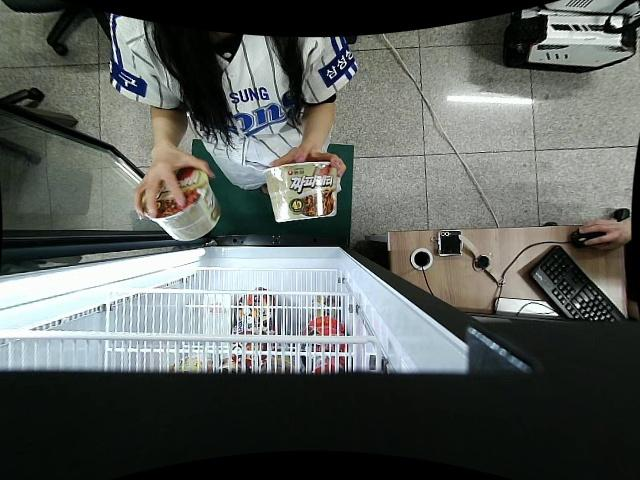00_hand: (132, 153, 217, 220), (269, 146, 348, 194)
03_chapagetti_L: (141, 169, 221, 243), (264, 161, 339, 223)
